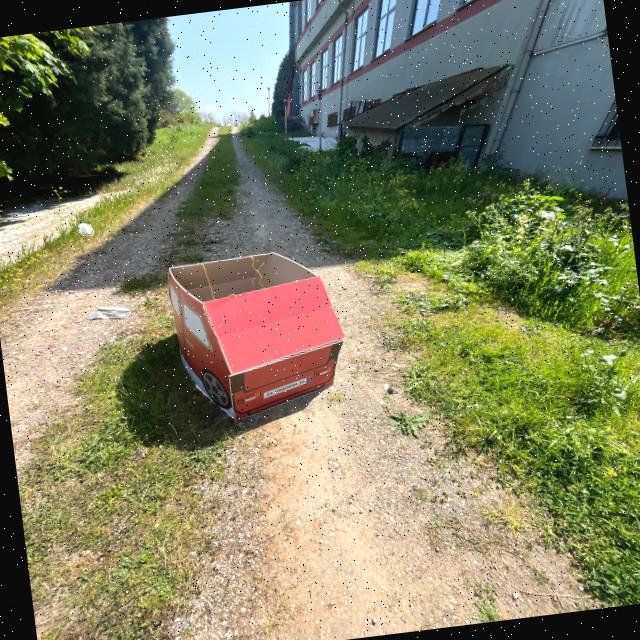red_car: (145, 232, 368, 436)
